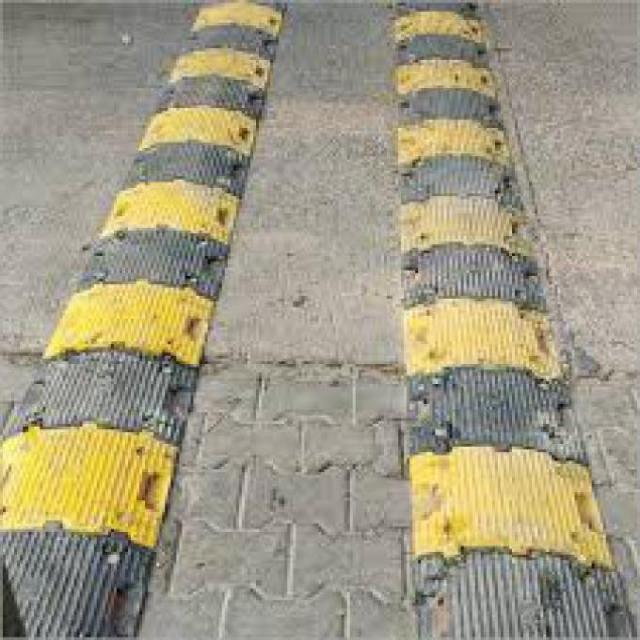Speed_Breaker: (5, 3, 640, 640), (0, 0, 288, 636), (395, 0, 639, 635)
